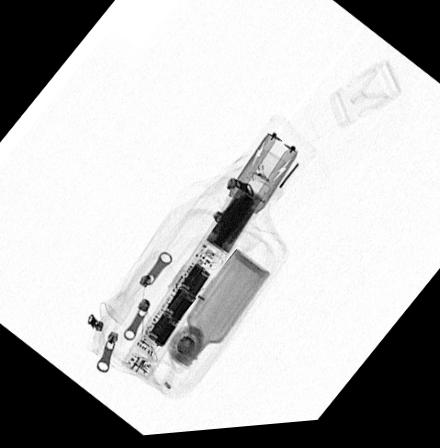Baton: (117, 135, 298, 385)
